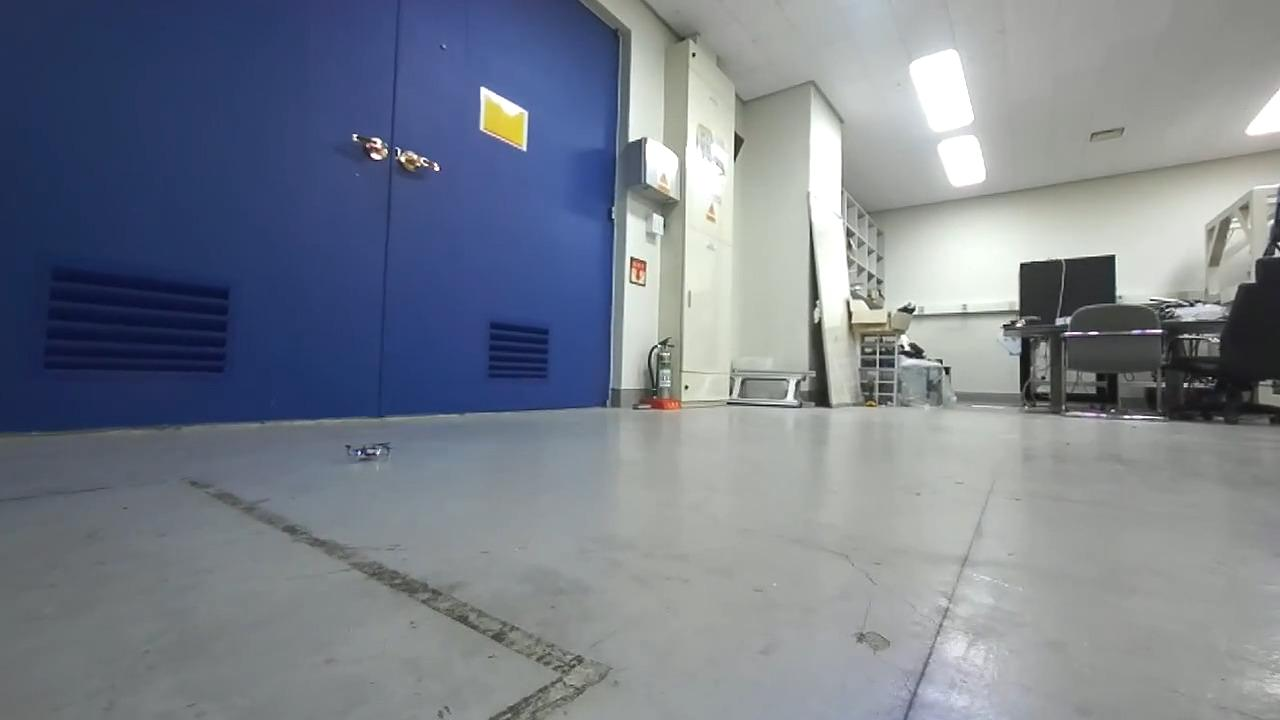crazyflie: (340, 437, 395, 467)
